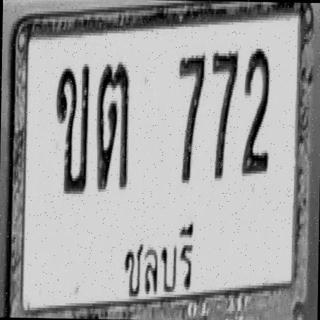A02: (54, 62, 90, 195)
A21: (95, 60, 130, 191)
N02: (241, 46, 270, 174)
N07: (176, 52, 205, 183), (210, 49, 238, 180)
P13: (118, 220, 199, 302)
